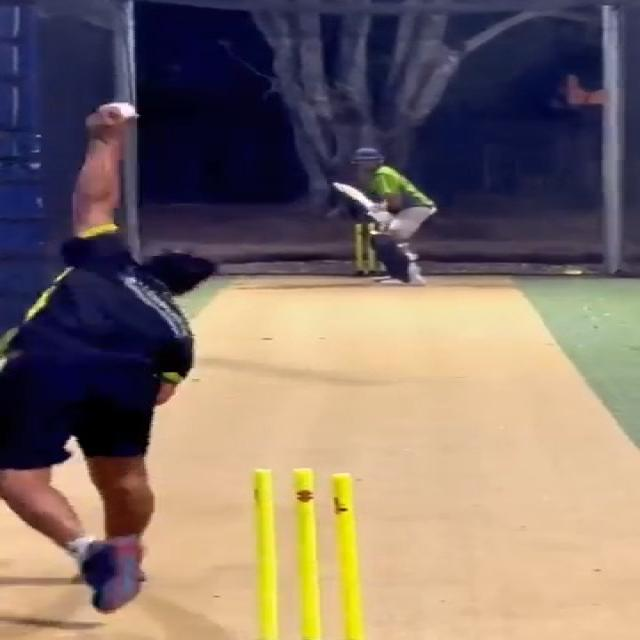stump: (250, 466, 368, 640)
